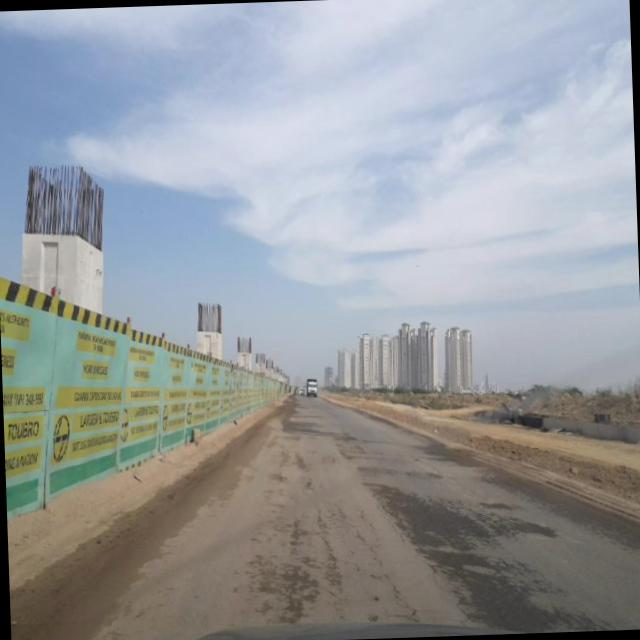crack: (360, 472, 602, 638)
pothole: (332, 490, 414, 622), (314, 498, 353, 618), (276, 508, 314, 628)
